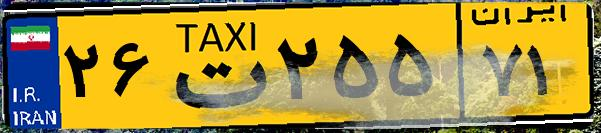1: (525, 38, 570, 115)
2: (270, 28, 330, 110), (57, 26, 110, 100)
5: (385, 28, 445, 110), (330, 28, 385, 110)
6: (110, 28, 158, 98)
7: (475, 38, 525, 113)
ت: (158, 12, 270, 120)
